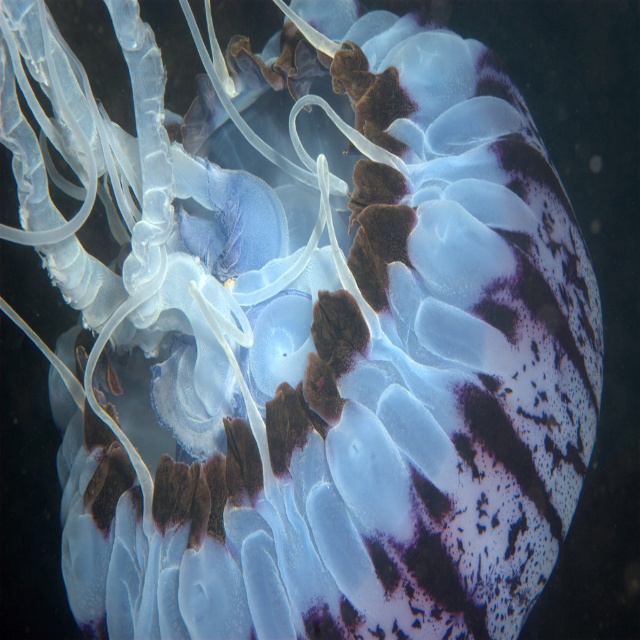Jellyfish: (0, 0, 605, 639)
